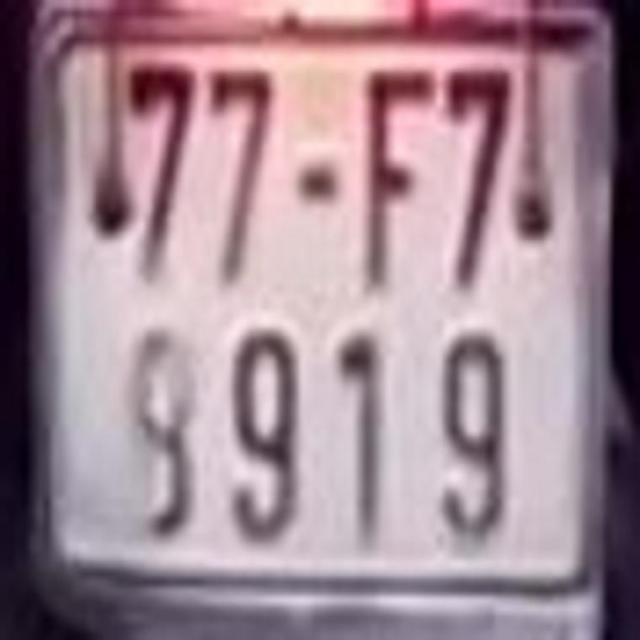1: (323, 318, 400, 542)
7: (109, 56, 199, 294), (434, 51, 520, 287), (200, 47, 276, 300)
9: (431, 313, 516, 546), (224, 321, 307, 552), (117, 322, 199, 538)
F: (359, 48, 437, 290)
